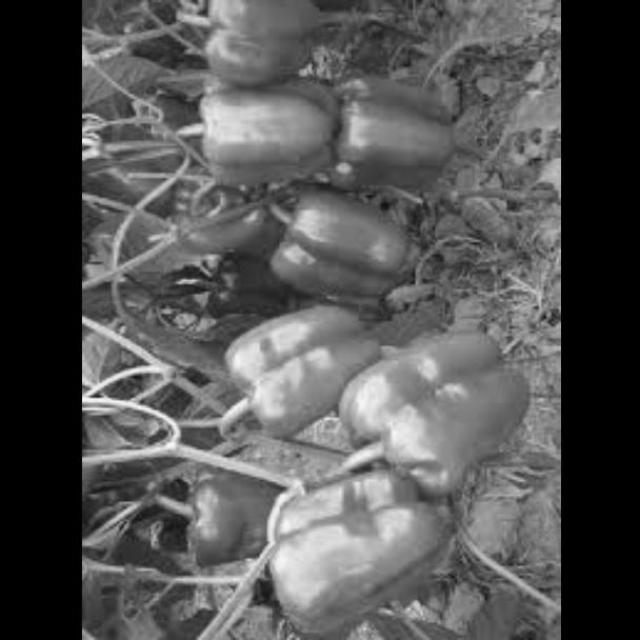ot chuong: (340, 323, 536, 498), (264, 458, 450, 638), (222, 306, 370, 437), (191, 73, 333, 203), (260, 192, 407, 309), (329, 68, 456, 199), (188, 0, 324, 88), (182, 459, 286, 573)
